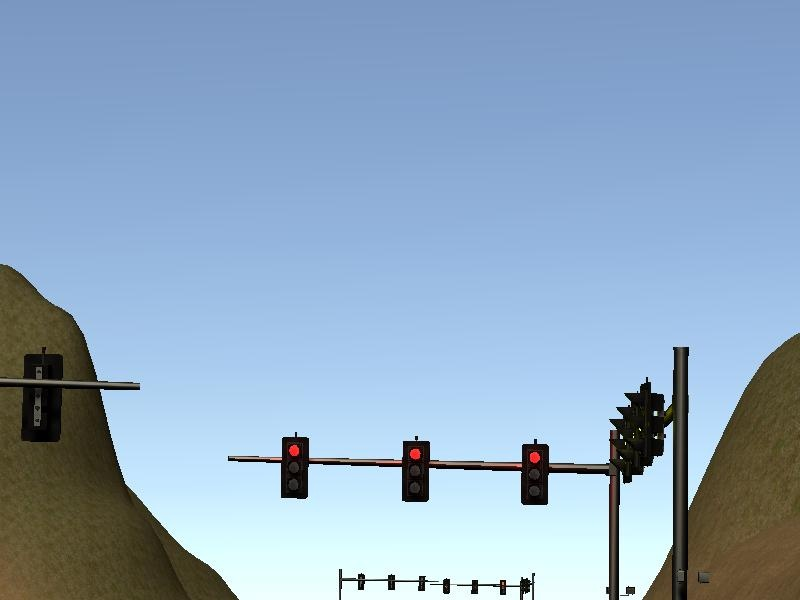red: (279, 435, 310, 499), (519, 442, 550, 506), (400, 440, 430, 503)
